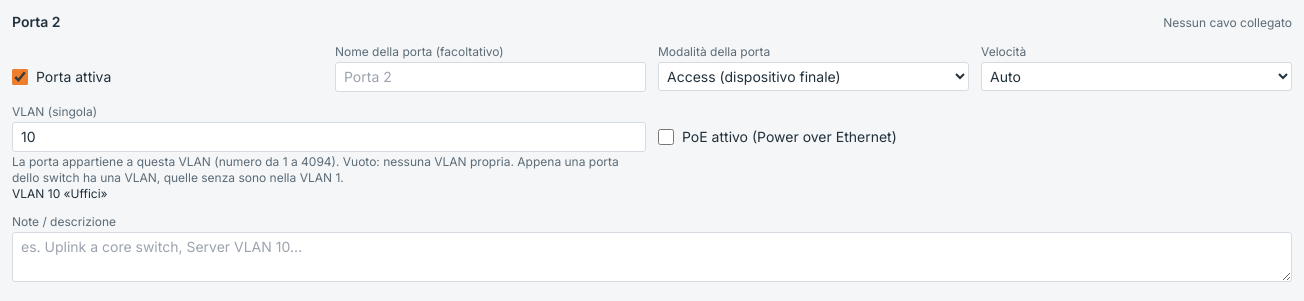
Test: the settings of a switch port › the field holds the number; the name of the VLAN is said under it, and follows what is typed
Later steps or results of the test are not shown.
Replace the text in the field labelled "VLAN (singola)" with "20": (329, 137) [12,122,646,152]
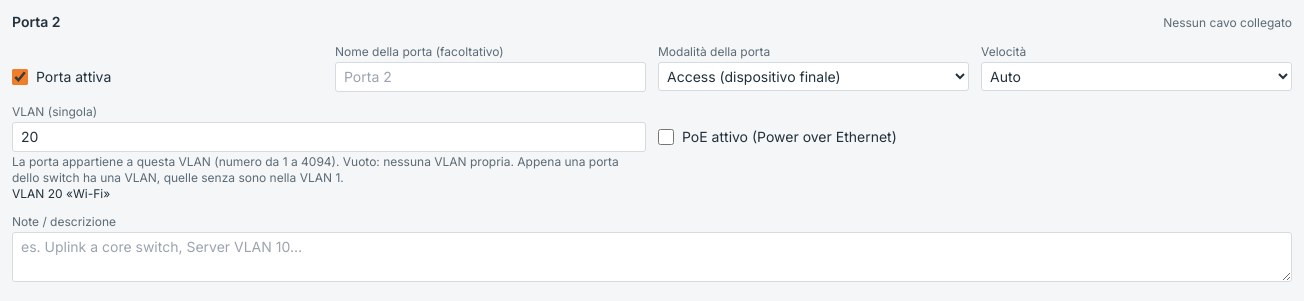
expect the text with test id "vlan-names" reads "VLAN 20 «Wi-Fi»": met, box [12,186,110,201]
Replace the text in the field labelled "VLAN (singola)" with "10, 20": (329, 137) [12,122,646,152]
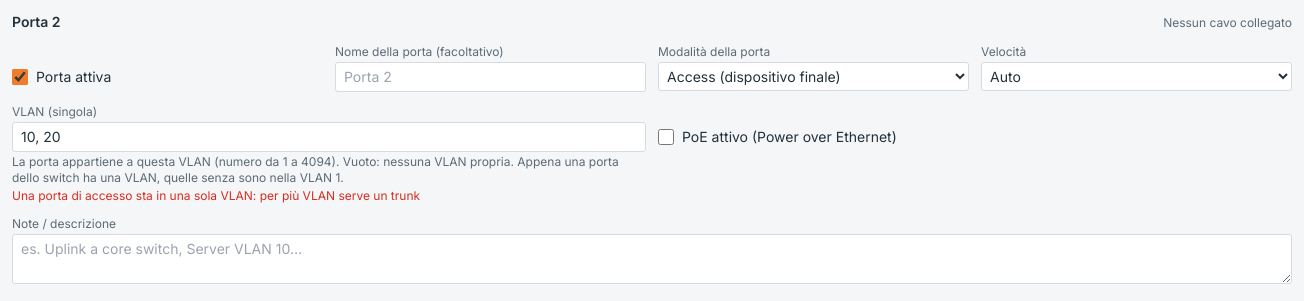
expect the message shows "Una porta di accesso sta in una sola VLAN": met, box [12,188,420,203]
expect the text with test id "vlan-names" is gone: met
